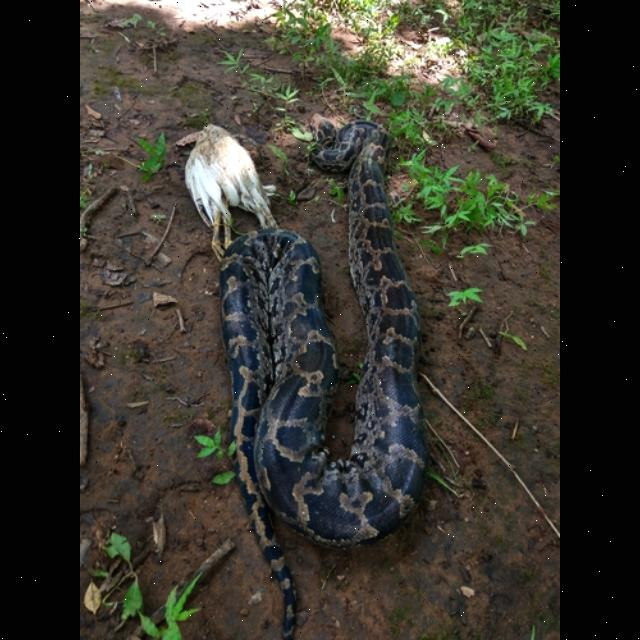snake: (212, 82, 426, 640)
